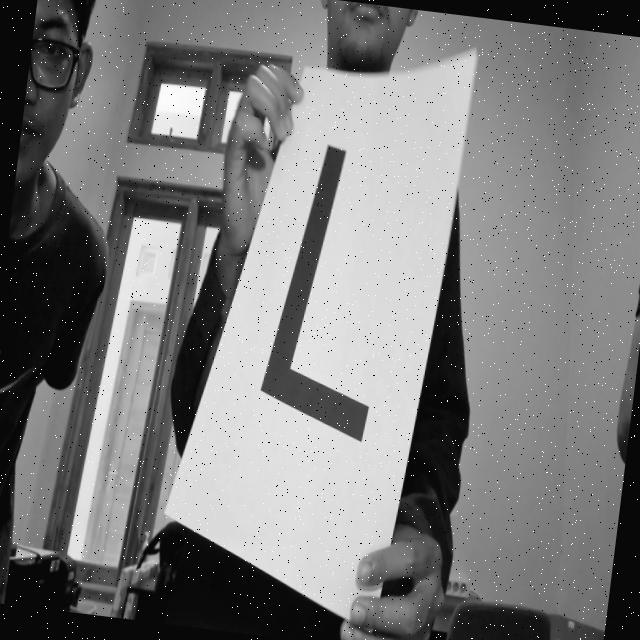l: (246, 126, 408, 463)
